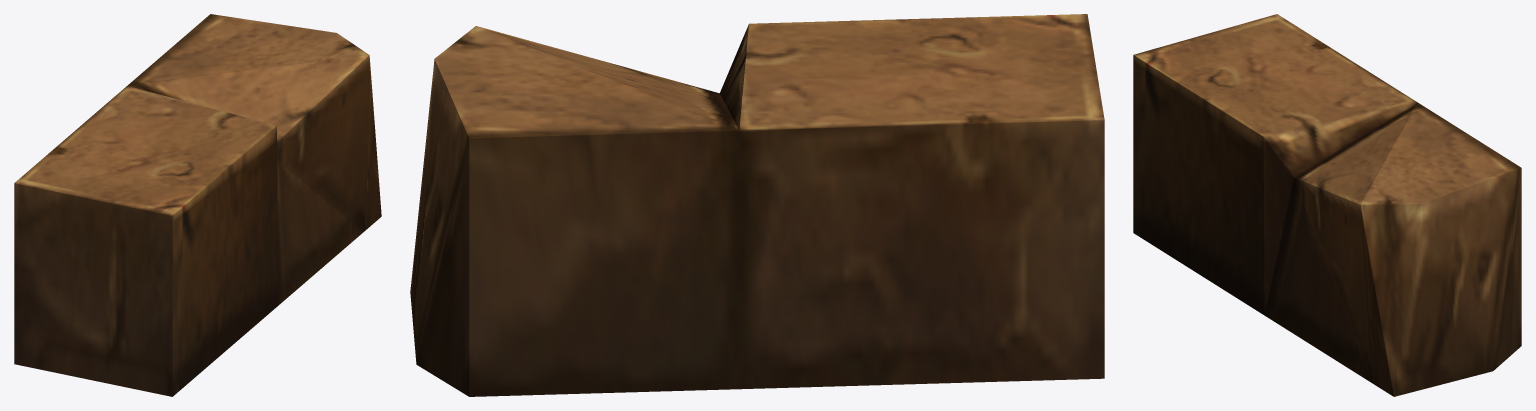
The model's file is ShiZhuan03.FBX.
3 renders of one model, left to right at view 1: azimuth 30°, elevation 25°; view 2: azimuth 150°, elevation 25°; view 3: azimuth 270°, elevation 25°, orthographic. The views are drawn at different scales.
Visible parts, largest first — view 1: ShiZhuan03; view 2: ShiZhuan03; view 3: ShiZhuan03.
Part boxes in pixels (x1,y1,x2,y2): ShiZhuan03: (14, 14, 381, 396); ShiZhuan03: (410, 14, 1104, 396); ShiZhuan03: (1133, 14, 1521, 396).
Size of the model in its own units: 171 by 69.65 by 137.
